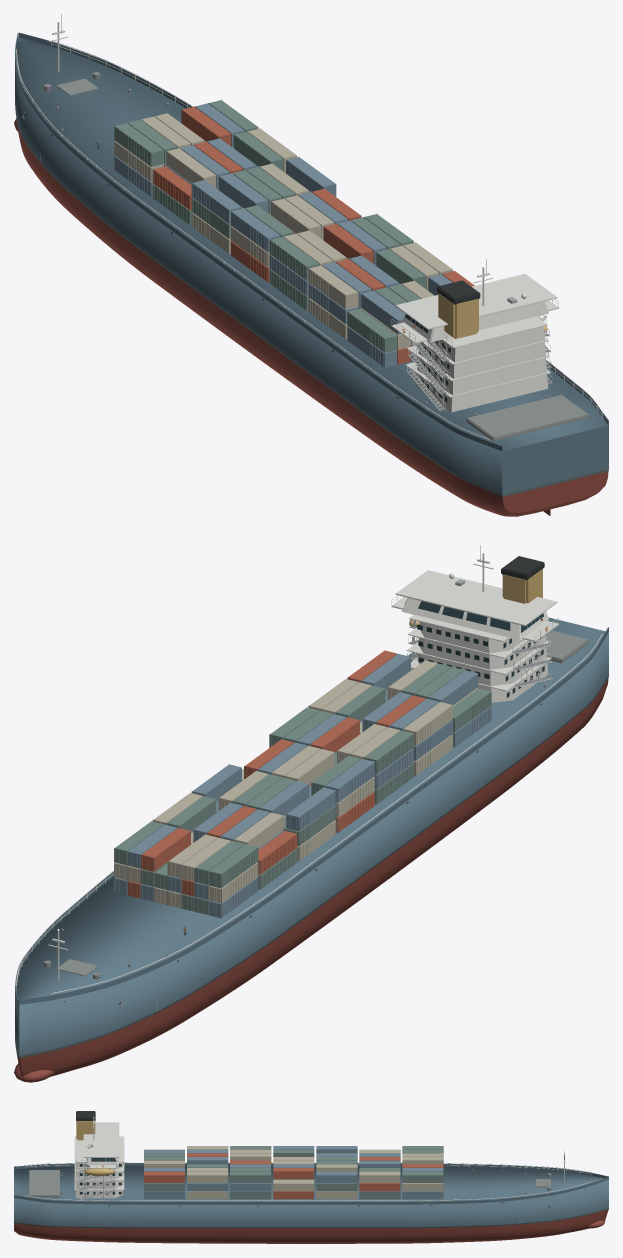
Rendered from cargo.glb.
The picture shows the model from 3 angles, top to bottom: view 1: azimuth 30°, elevation 25°; view 2: azimuth 150°, elevation 25°; view 3: azimuth 270°, elevation 25°; orthographic projection. The views are drawn at different scales.
Parts seen in each view (by area): view 1: hull, white, bottom, blue, green, sand, red, deck, metal, stripe, ochre, black; view 2: hull, white, blue, bottom, green, sand, red, metal, window, stripe, deck, ochre (+1 smaller); view 3: hull, bottom, sand, blue, green, white, red, stripe, deck, ochre, metal, window (+1 smaller).
Boxes of the visible parts, bbox=[...] form: hull: bbox=[15, 32, 608, 494]; white: bbox=[16, 22, 602, 441]; bottom: bbox=[14, 118, 608, 516]; blue: bbox=[114, 103, 452, 367]; green: bbox=[114, 100, 425, 352]; sand: bbox=[114, 113, 452, 349]; red: bbox=[153, 106, 474, 364]; deck: bbox=[57, 78, 589, 440]; metal: bbox=[22, 14, 552, 415]; stripe: bbox=[17, 123, 608, 497]; ochre: bbox=[438, 293, 547, 338]; black: bbox=[15, 66, 480, 398]; hull: bbox=[15, 617, 608, 1055]; white: bbox=[16, 553, 602, 1010]; blue: bbox=[114, 653, 491, 917]; bottom: bbox=[14, 678, 608, 1082]; green: bbox=[114, 663, 491, 914]; sand: bbox=[114, 660, 478, 908]; red: bbox=[128, 618, 542, 898]; metal: bbox=[44, 545, 552, 1007]; window: bbox=[404, 598, 544, 697]; stripe: bbox=[15, 643, 608, 1058]; deck: bbox=[56, 630, 589, 976]; ochre: bbox=[409, 569, 542, 626]; hull: bbox=[14, 1163, 608, 1227]; bottom: bbox=[14, 1209, 608, 1243]; sand: bbox=[144, 1146, 443, 1199]; blue: bbox=[144, 1146, 443, 1199]; green: bbox=[98, 1146, 443, 1199]; white: bbox=[24, 1118, 591, 1223]; red: bbox=[144, 1153, 443, 1199]; stripe: bbox=[14, 1164, 608, 1228]; deck: bbox=[29, 1170, 550, 1197]; ochre: bbox=[76, 1121, 114, 1175]; metal: bbox=[60, 1146, 564, 1209]; window: bbox=[80, 1158, 123, 1194].
Size of the model in its own units: 27.08 by 37.7 by 174.
